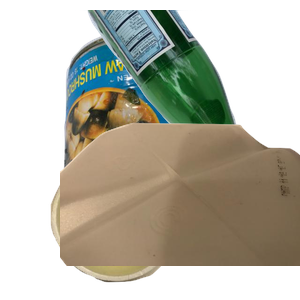glass: (75, 10, 300, 190)
metal: (60, 28, 300, 208)
plastic: (60, 120, 300, 300)
trash: (48, 152, 219, 300)
